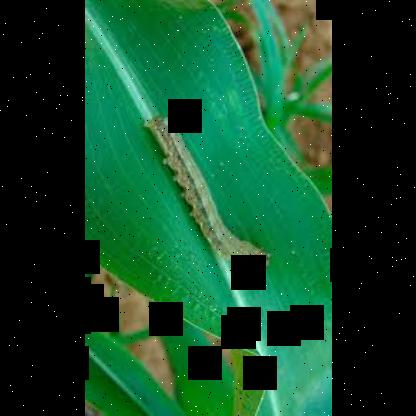oruga: (144, 112, 272, 270)
